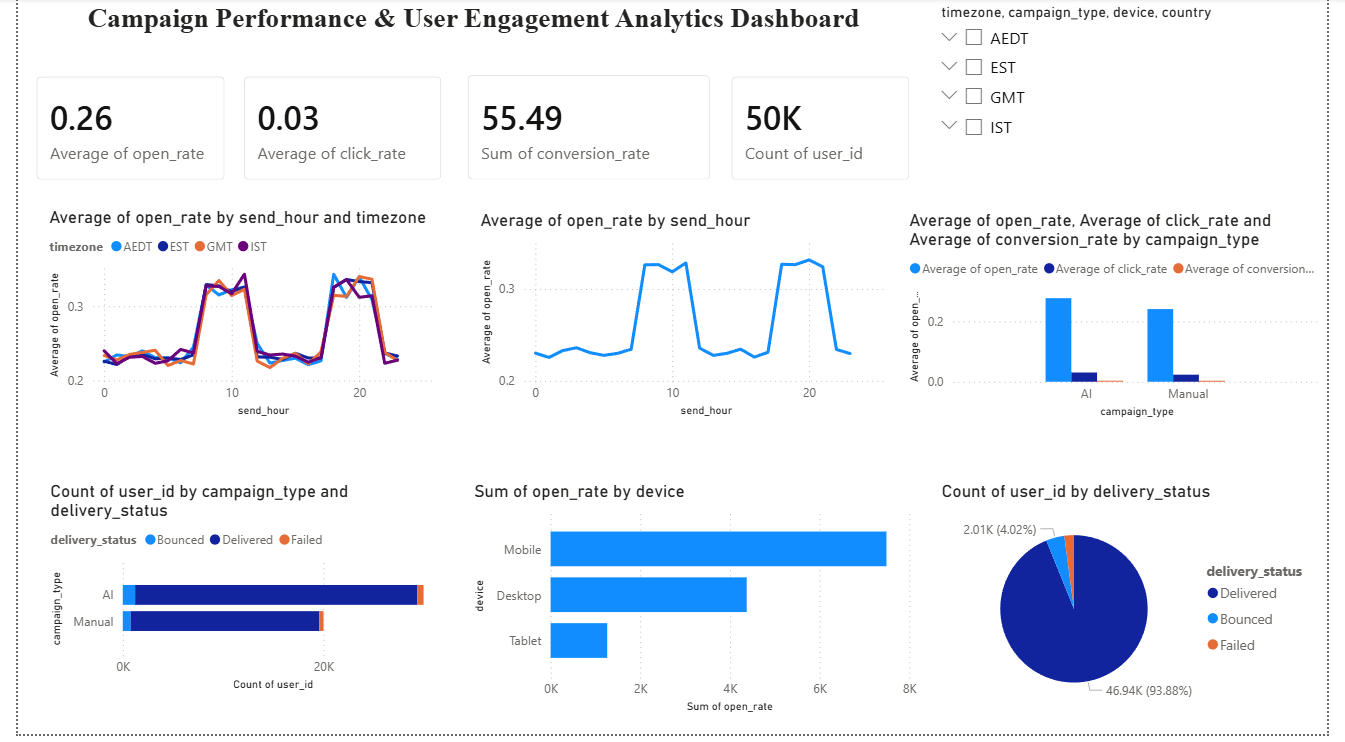

What the dashboard file says about the page in this screenshot:
{"tool":"powerbi","page":{"name":"Page 1","canvas":[1280,720],"ordinal":0},"visuals":[{"type":"slicer","fields":{"Values":["marketing_campaign_dataset_50k.timezone","marketing_campaign_dataset_50k.campaign_type","marketing_campaign_dataset_50k.device","marketing_campaign_dataset_50k.country"]},"box":[890,0,386.2,193.8],"z":0},{"type":"cardVisual","fields":{"Data":["Avg(marketing_campaign_dataset_50k.open_rate)"]},"box":[1.2,60,218.8,135],"z":1000},{"type":"cardVisual","fields":{"Data":["Avg(marketing_campaign_dataset_50k.click_rate)"]},"box":[203.8,60,227.5,135],"z":2000},{"type":"cardVisual","fields":{"Data":["Sum(marketing_campaign_dataset_50k.conversion_rate)"]},"box":[422.5,58.8,271.2,136.2],"z":3000},{"type":"cardVisual","fields":{"Data":["CountNonNull(marketing_campaign_dataset_50k.user_id)"]},"box":[681.2,60,208.8,135],"z":4000},{"type":"lineChart","fields":{"Category":["marketing_campaign_dataset_50k.send_hour"],"Y":["Avg(marketing_campaign_dataset_50k.open_rate)"],"Series":["marketing_campaign_dataset_50k.timezone"]},"box":[25.7,204.3,385.7,210],"z":5000},{"type":"lineChart","fields":{"Category":["marketing_campaign_dataset_50k.send_hour"],"Y":["Avg(marketing_campaign_dataset_50k.open_rate)"]},"box":[447.6,206.7,408.4,207.9],"z":6000},{"type":"clusteredColumnChart","fields":{"Category":["marketing_campaign_dataset_50k.campaign_type"],"Y":["Avg(marketing_campaign_dataset_50k.open_rate)","Avg(marketing_campaign_dataset_50k.click_rate)","Avg(marketing_campaign_dataset_50k.conversion_rate)"]},"box":[867.5,206.2,412.5,208.8],"z":7000},{"type":"barChart","fields":{"Category":["marketing_campaign_dataset_50k.campaign_type"],"Y":["CountNonNull(marketing_campaign_dataset_50k.user_id)"],"Series":["marketing_campaign_dataset_50k.delivery_status"]},"box":[26.9,472,385.2,210.3],"z":8000},{"type":"barChart","fields":{"Category":["marketing_campaign_dataset_50k.device"],"Y":["Sum(marketing_campaign_dataset_50k.open_rate)"]},"box":[441.4,472,442.7,232.3],"z":9000},{"type":"pieChart","fields":{"Y":["CountNonNull(marketing_campaign_dataset_50k.user_id)"],"Category":["marketing_campaign_dataset_50k.delivery_status"]},"box":[898.8,472,377.9,232.3],"z":10000},{"type":"textbox","box":[1.2,0,888.8,60],"z":10003}]}

Visuals, with their boxes in screenshot pixels (x1, y1, x2, y2), scaled from the page's 1280x720 canvas onto the 1345x742 screenshot:
slicer - marketing_campaign_dataset_50k.timezone x marketing_campaign_dataset_50k.campaign_type: Rect(935, 0, 1341, 200)
cardVisual - Avg(marketing_campaign_dataset_50k.open_rate): Rect(1, 62, 231, 201)
cardVisual - Avg(marketing_campaign_dataset_50k.click_rate): Rect(214, 62, 453, 201)
cardVisual - Sum(marketing_campaign_dataset_50k.conversion_rate): Rect(444, 61, 729, 201)
cardVisual - CountNonNull(marketing_campaign_dataset_50k.user_id): Rect(716, 62, 935, 201)
lineChart - marketing_campaign_dataset_50k.send_hour x Avg(marketing_campaign_dataset_50k.open_rate): Rect(27, 211, 432, 427)
lineChart - marketing_campaign_dataset_50k.send_hour x Avg(marketing_campaign_dataset_50k.open_rate): Rect(470, 213, 899, 427)
clusteredColumnChart - marketing_campaign_dataset_50k.campaign_type x Avg(marketing_campaign_dataset_50k.open_rate): Rect(912, 213, 1344, 428)
barChart - marketing_campaign_dataset_50k.campaign_type x CountNonNull(marketing_campaign_dataset_50k.user_id): Rect(28, 486, 433, 703)
barChart - marketing_campaign_dataset_50k.device x Sum(marketing_campaign_dataset_50k.open_rate): Rect(464, 486, 929, 726)
pieChart - CountNonNull(marketing_campaign_dataset_50k.user_id) x marketing_campaign_dataset_50k.delivery_status: Rect(944, 486, 1342, 726)
textbox: Rect(1, 0, 935, 62)
